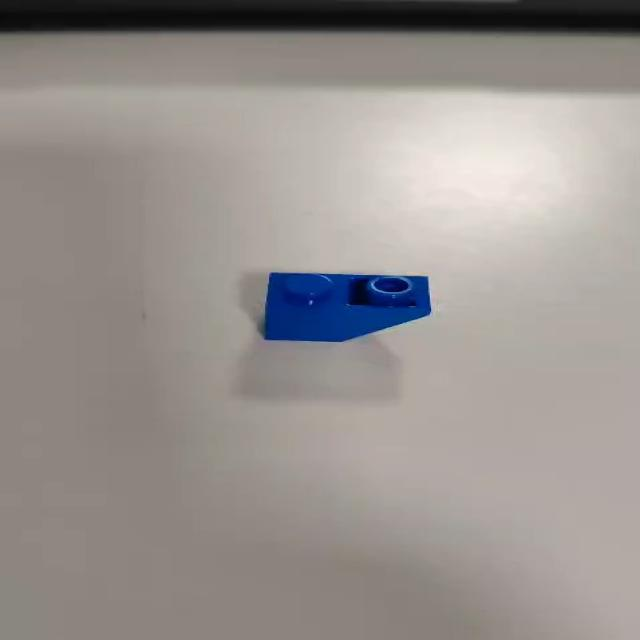X1x2x1: (256, 271, 436, 345)
